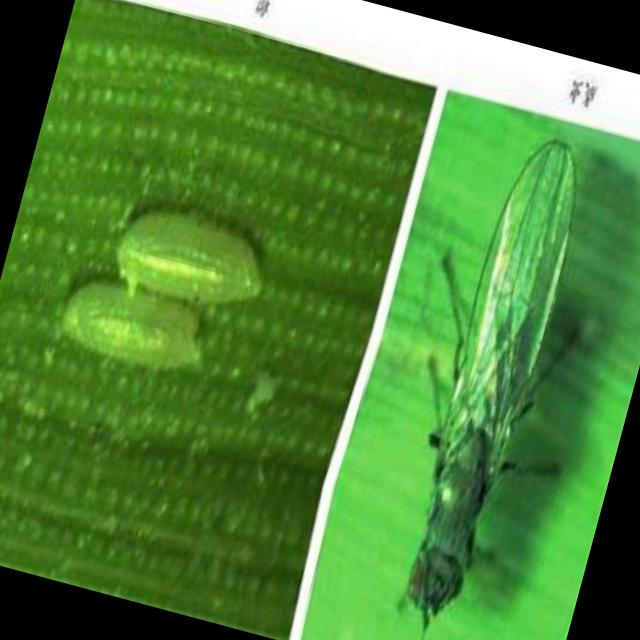whorl-maggot: (101, 182, 284, 330), (42, 270, 220, 391)
